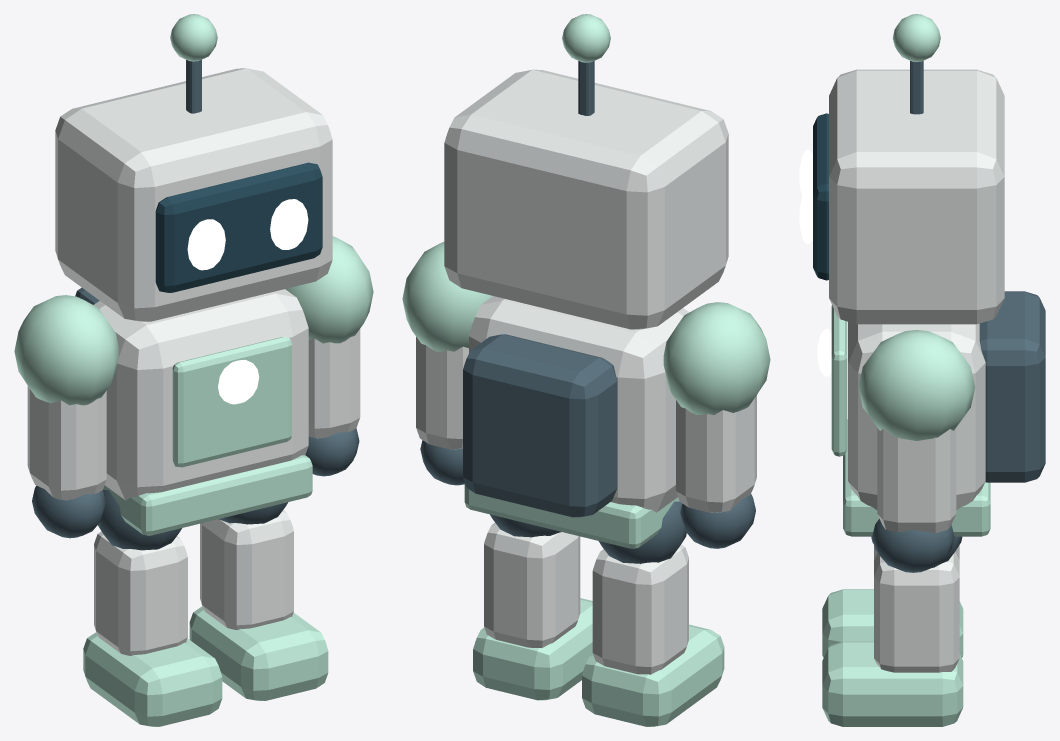
File: nova.glb
3 views of the same model, side by side, from view 1: azimuth 30°, elevation 25°; view 2: azimuth 150°, elevation 25°; view 3: azimuth 270°, elevation 25° (orthographic). The views are drawn at different scales.
Visible parts, largest first — view 1: Head, Torso, Visor, Chest plate, Leg.001, Leg, Boot.001, Shoulder.001, Boot, Belt, Arm.001, Shoulder (+10 smaller); view 2: Head, Pack, Torso, Leg.001, Leg, Shoulder.001, Boot.001, Arm.001, Boot, Shoulder, Belt, Arm (+6 smaller); view 3: Head, Pack, Shoulder, Torso, Boot, Leg, Arm, Boot.001, Belt, Hand, Visor, Chest plate (+5 smaller).
Boxes of the visible parts, box(x1,y1,x2,y2) form: Head: box(55, 68, 332, 321); Torso: box(94, 289, 308, 500); Visor: box(155, 162, 322, 292); Chest plate: box(172, 337, 291, 467); Leg.001: box(94, 531, 187, 655); Leg: box(200, 510, 293, 629); Boot.001: box(83, 632, 222, 726); Shoulder.001: box(14, 295, 118, 405); Boot: box(189, 606, 328, 700); Belt: box(103, 455, 312, 535); Arm.001: box(27, 386, 106, 500); Shoulder: box(285, 236, 373, 343); Head: box(444, 69, 728, 329); Pack: box(463, 334, 617, 517); Torso: box(469, 296, 689, 512); Leg.001: box(592, 544, 688, 674); Leg: box(484, 523, 580, 647); Shoulder.001: box(663, 302, 770, 414); Boot.001: box(582, 624, 724, 726); Arm.001: box(676, 395, 756, 512); Boot: box(473, 598, 592, 700); Shoulder: box(402, 242, 492, 351); Belt: box(464, 482, 679, 548); Arm: box(416, 337, 468, 449); Head: box(829, 69, 1004, 324); Pack: box(979, 291, 1045, 482); Shoulder: box(858, 330, 975, 440); Torso: box(848, 322, 985, 510); Boot: box(822, 641, 963, 726); Leg: box(874, 551, 959, 672); Arm: box(877, 428, 956, 533); Boot.001: box(822, 589, 963, 657); Belt: box(843, 419, 990, 536); Hand: box(872, 519, 954, 572); Visor: box(813, 113, 828, 280); Chest plate: box(831, 305, 847, 456).
Bounding box in the file's own units: 1.16 × 2.16 × 0.717.
